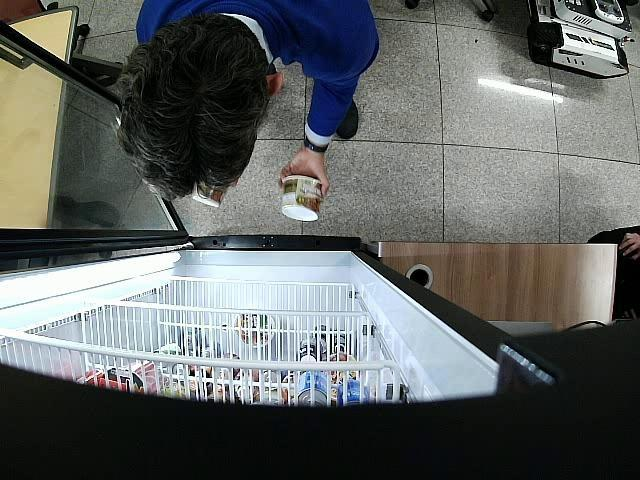03_chapagetti_L: (282, 175, 324, 221)
